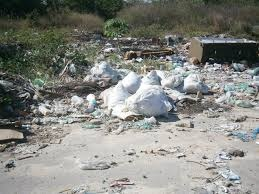rubble: (76, 45, 259, 114)
